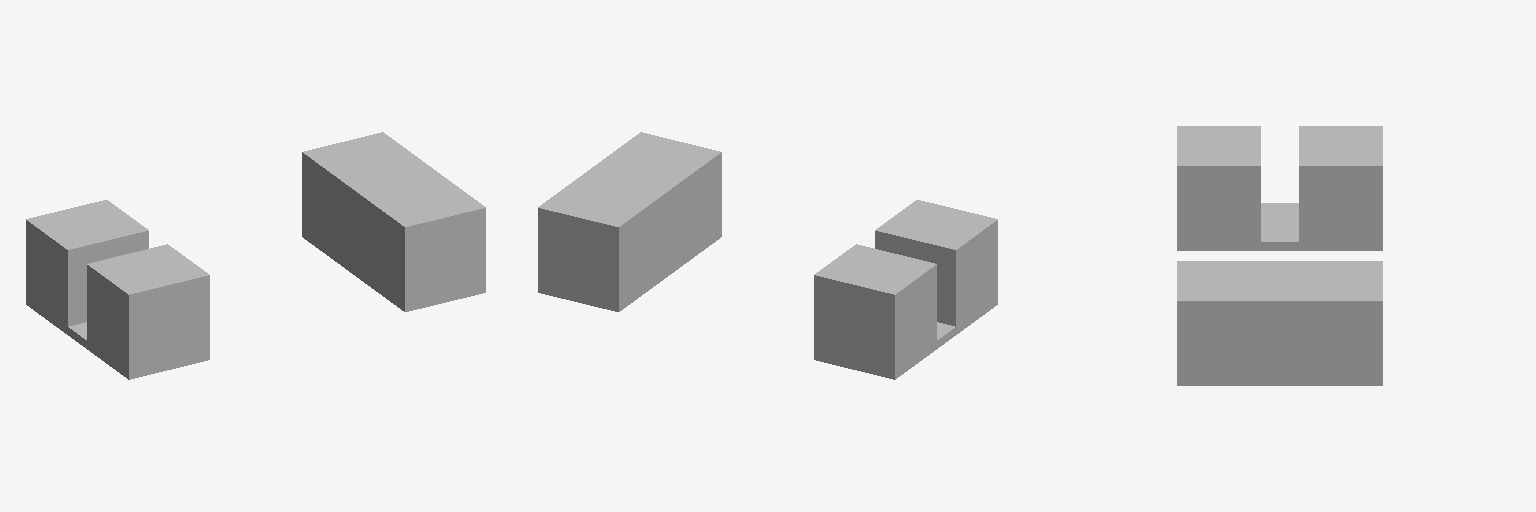
The model's file is DoorWalls Right Filled.obj.
3 renders of one model, left to right at view 1: azimuth 30°, elevation 25°; view 2: azimuth 150°, elevation 25°; view 3: azimuth 270°, elevation 25°, orthographic.
Bounding box in the file's own units: 44 × 10 × 22.